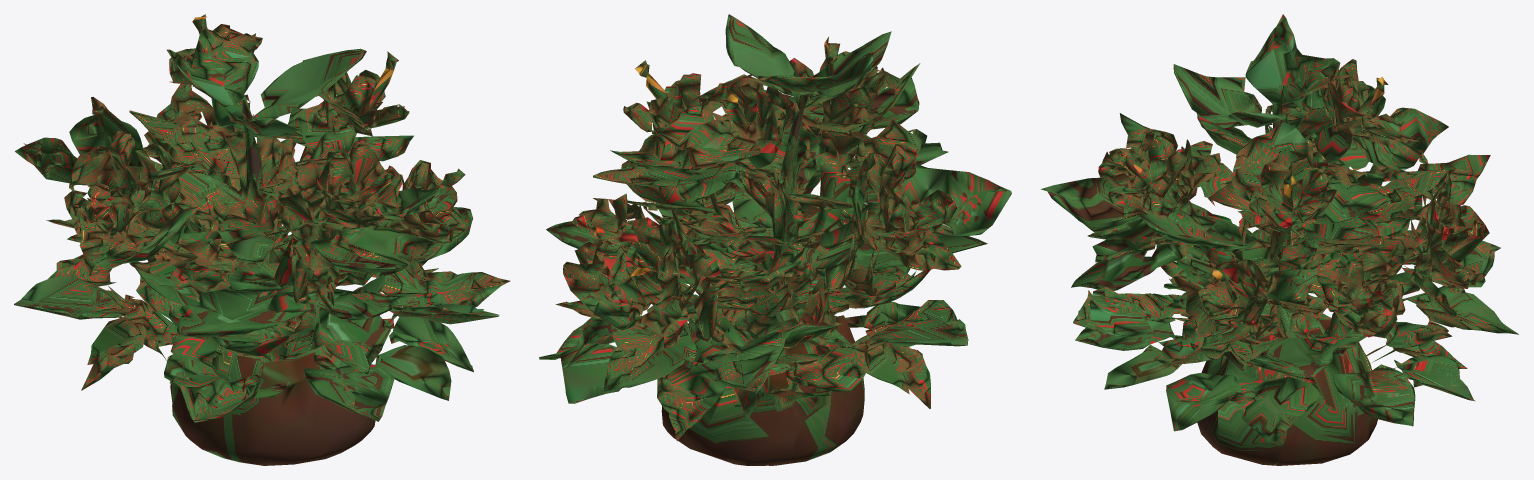
The model's file is hibiscus.glb.
The picture shows the model from 3 angles, left to right: view 1: azimuth 30°, elevation 25°; view 2: azimuth 150°, elevation 25°; view 3: azimuth 270°, elevation 25°; orthographic projection. The views are drawn at different scales.
Size of the model in its own units: 0.9617 by 0.8747 by 0.9961.
1 material, 1 textured.
